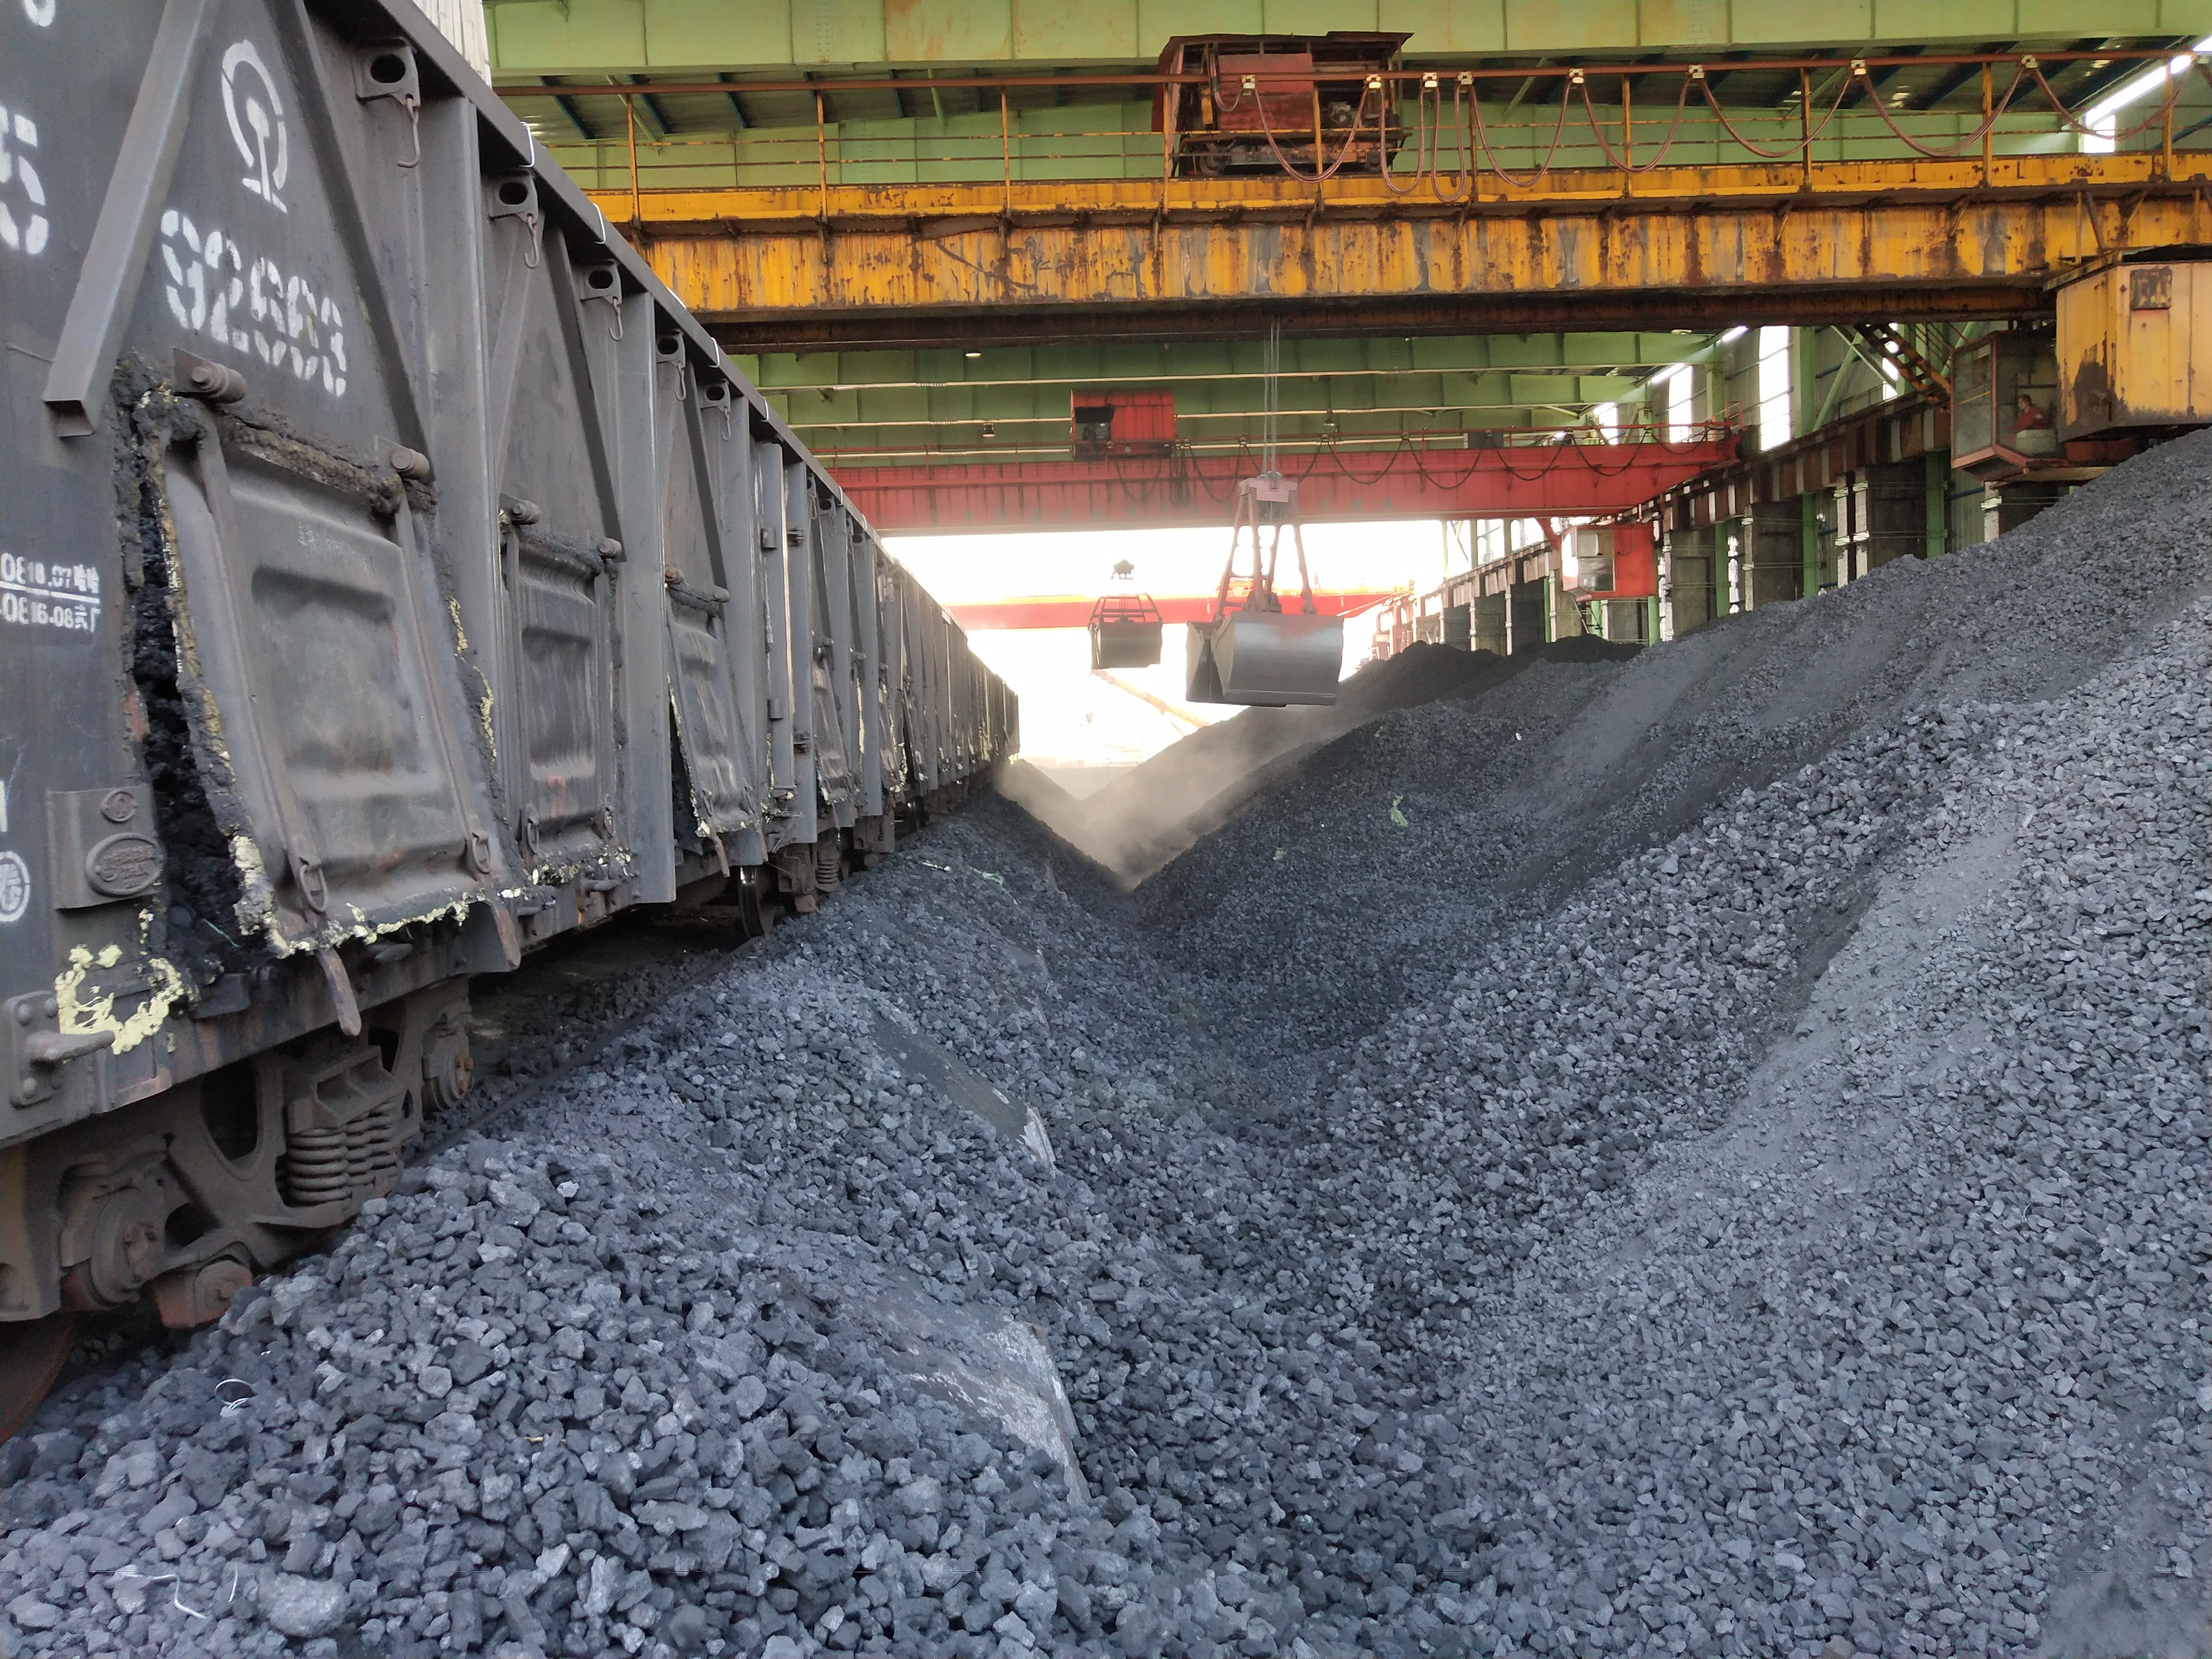dust: (1001, 676, 1268, 843)
grab: (1191, 457, 1353, 708), (1076, 591, 1176, 674)
